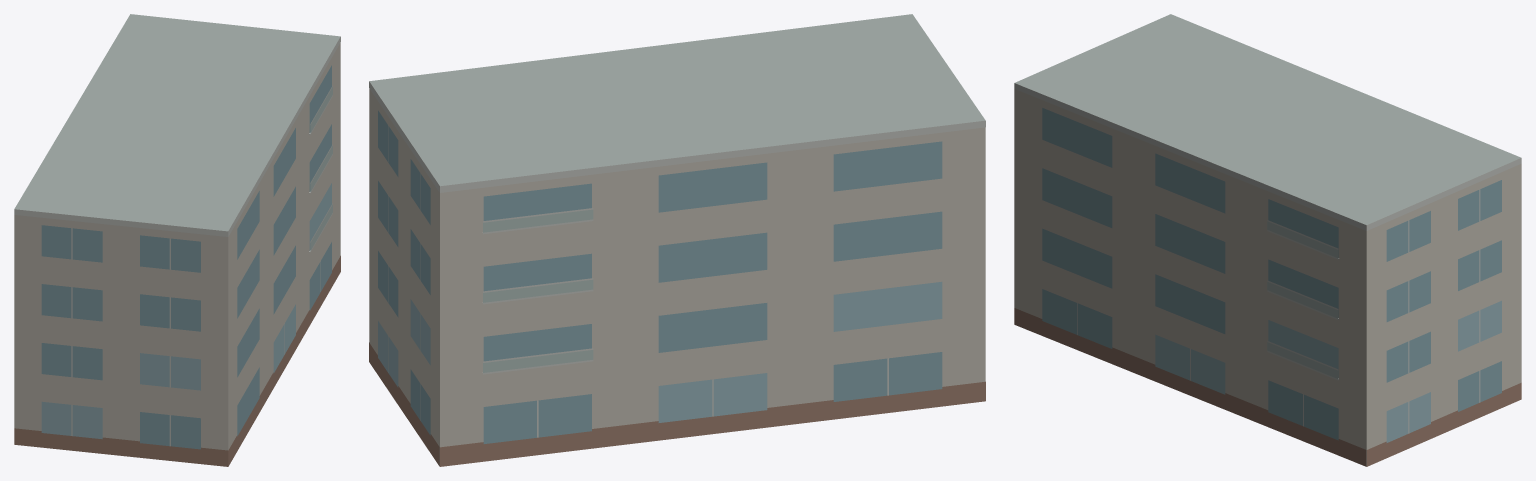
File: survey-upis-32889547.glb
3 renders of one model, left to right at view 1: azimuth 30°, elevation 25°; view 2: azimuth 150°, elevation 25°; view 3: azimuth 270°, elevation 25°, orthographic. The views are drawn at different scales.
Visible parts, largest first — view 1: survey-upis-32889547.tmp; view 2: survey-upis-32889547.tmp; view 3: survey-upis-32889547.tmp.
Boxes of the visible parts, box(x1,y1,x2,y2) form: survey-upis-32889547.tmp: box(14, 14, 340, 466); survey-upis-32889547.tmp: box(369, 14, 985, 466); survey-upis-32889547.tmp: box(1014, 14, 1521, 466).
Size of the model in its own units: 19.14 by 10.2 by 19.42.
